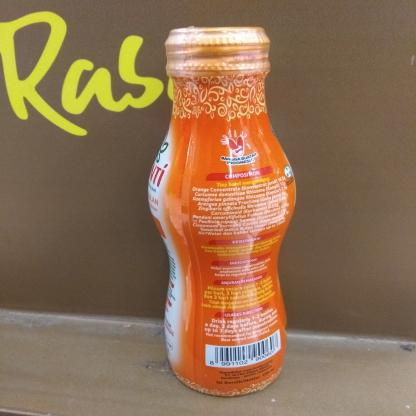keyboard: (144, 19, 304, 407)
